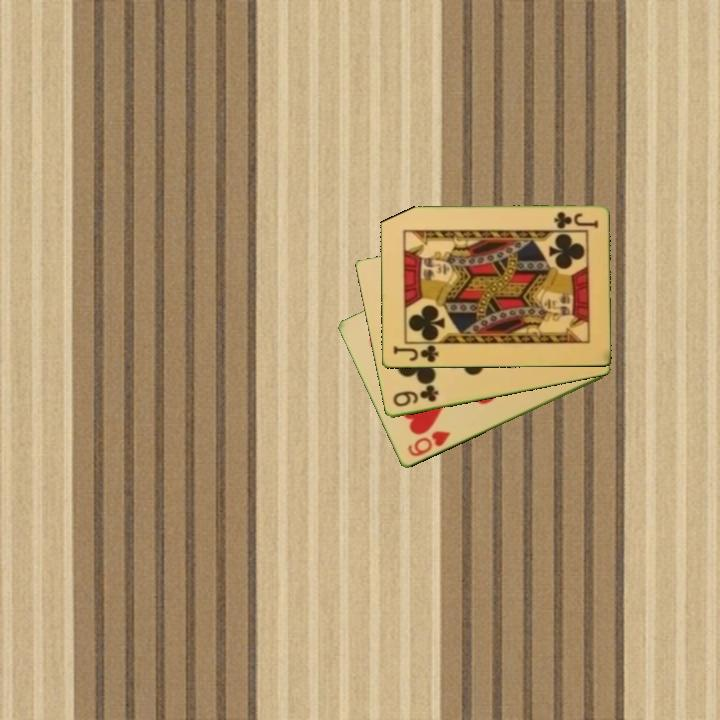6h: (404, 427, 453, 460)
9c: (389, 383, 441, 410)
Jc: (390, 342, 441, 366), (550, 208, 601, 231)
